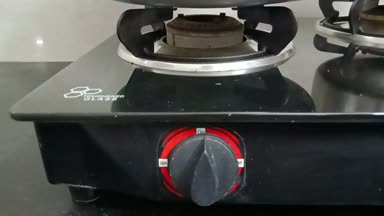noflame_gason: (123, 4, 286, 208)
